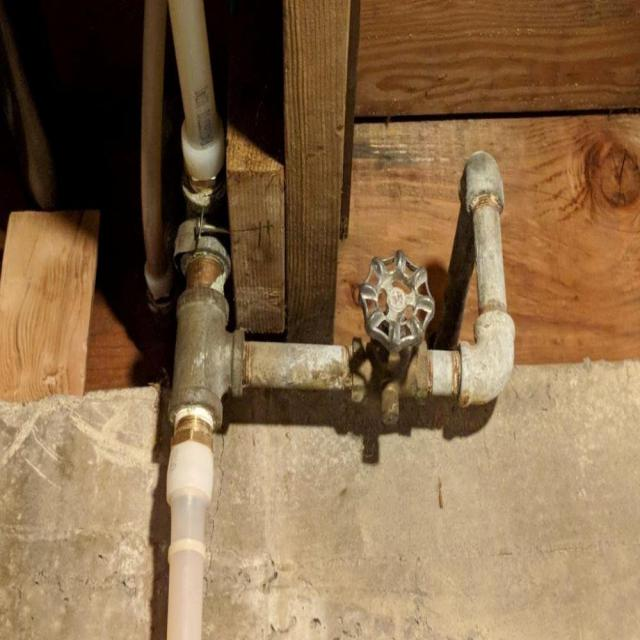Wheel Handle Valve Threaded: (352, 248, 436, 428)
